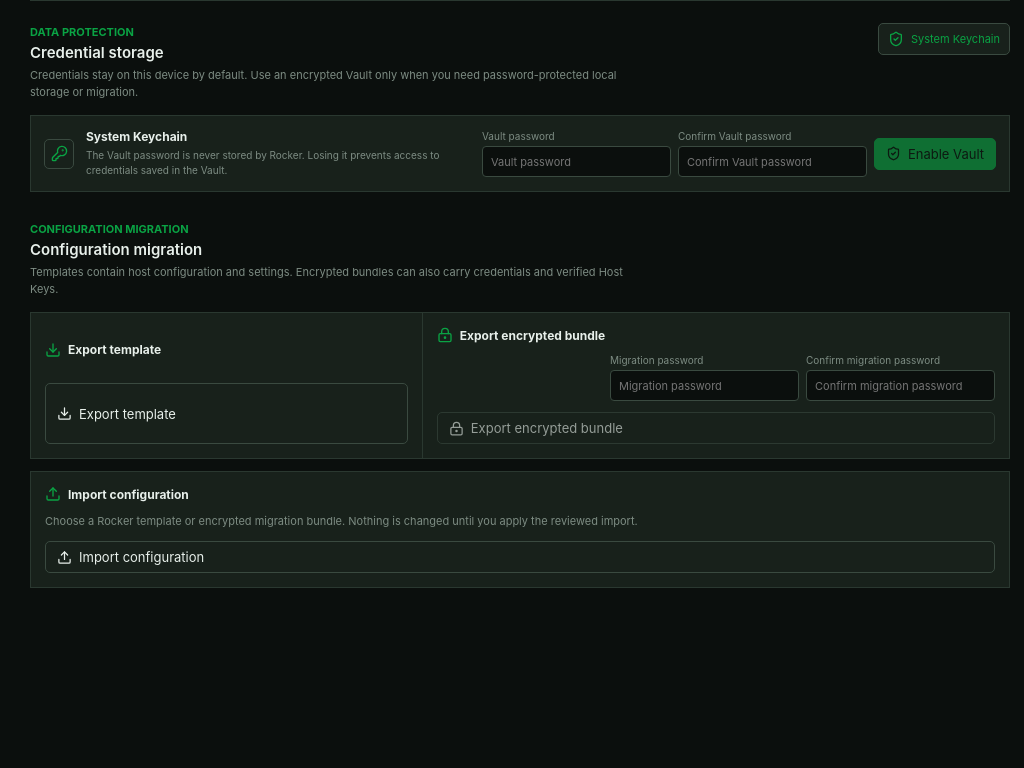
DataProtectionSettings › settles a cancelled import instead of leaving a pending status
This screenshot has width=1024, height=768.
Click the button "Import configuration" at (142, 557), box x1=45 y1=541 x2=995 y2=573
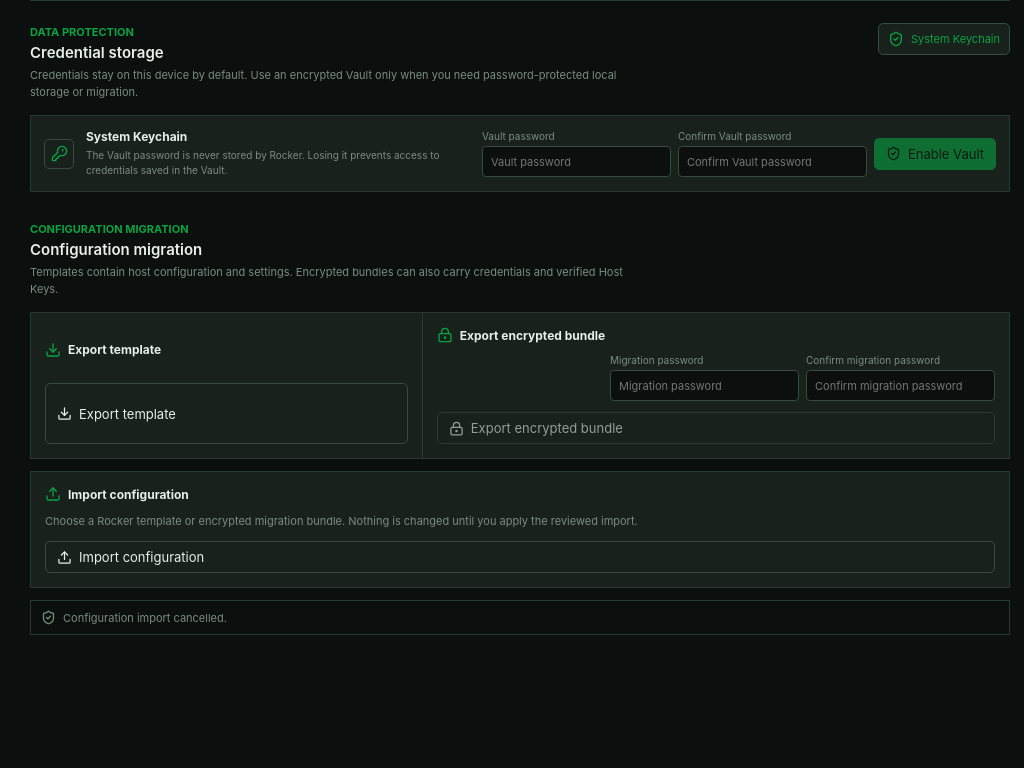
expect the message does not show "Working...": met, box x1=30 y1=600 x2=1010 y2=635
expect the message reads "Configuration import cancelled.": met, box x1=63 y1=611 x2=227 y2=625
